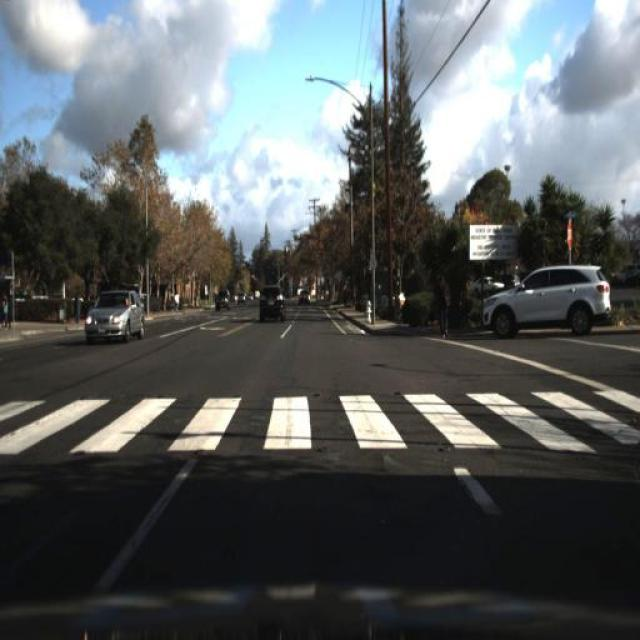car: (479, 260, 613, 332), (78, 280, 142, 340), (250, 268, 290, 332), (258, 282, 286, 324), (212, 285, 234, 313), (213, 286, 232, 316), (294, 287, 312, 312)
trafficLight: (433, 264, 452, 350), (434, 270, 455, 334), (172, 284, 182, 312)
